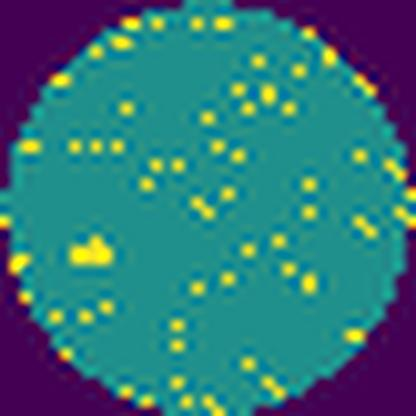Loc: (66, 233, 117, 269)
